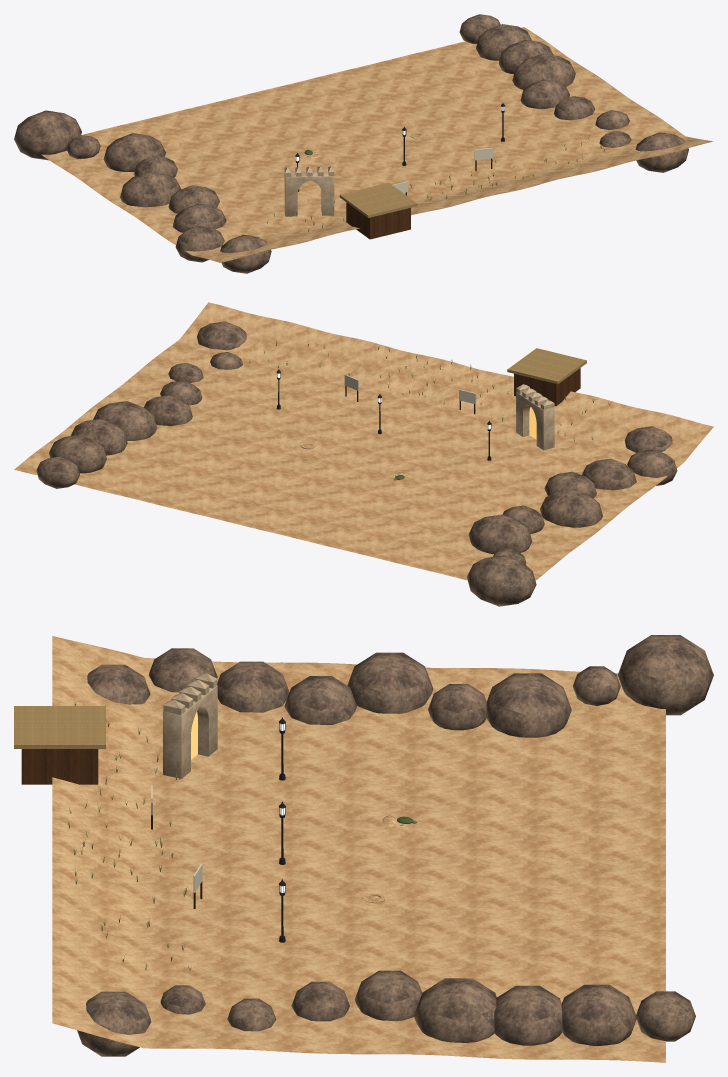
The model's file is station_turtles.glb.
3 renders of one model, top to bottom at view 1: azimuth 30°, elevation 25°; view 2: azimuth 150°, elevation 25°; view 3: azimuth 270°, elevation 25°, orthographic. The views are drawn at different scales.
Visible parts, largest first — view 1: turtles_Static; view 2: turtles_Static; view 3: turtles_Static.
Boxes of the visible parts, box(x1,y1,x2,y2) form: turtles_Static: box(14, 14, 713, 273); turtles_Static: box(14, 302, 713, 606); turtles_Static: box(14, 635, 713, 1062).
Size of what is drawn, in the model's own units: 61.48 by 11.08 by 45.64.
Materials: 14 (6 with a texture image).
